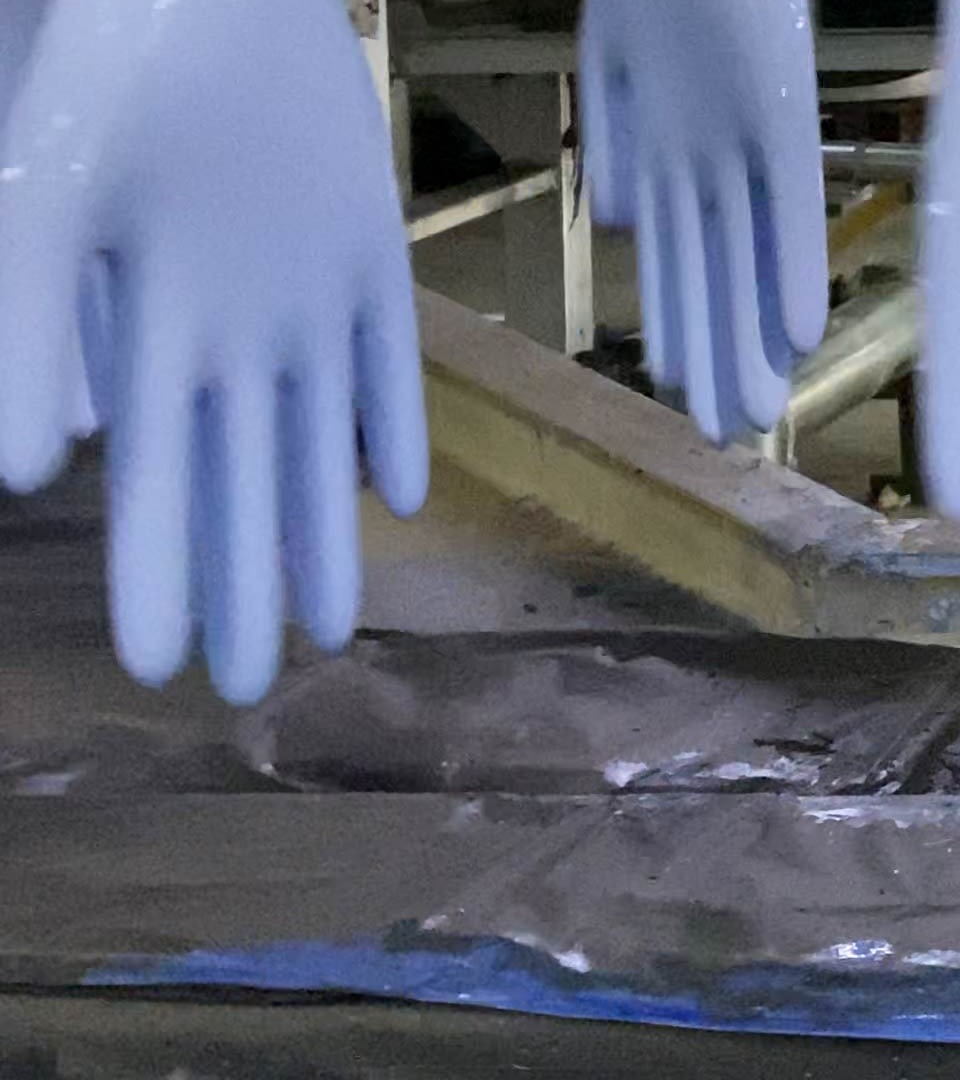glove: (1, 1, 439, 709), (577, 1, 830, 440)
